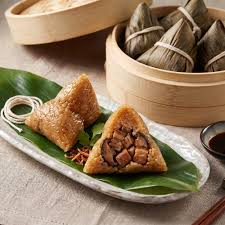zongzi: (83, 105, 167, 173), (25, 75, 99, 151), (137, 19, 196, 71), (124, 3, 164, 58), (160, 0, 212, 39), (198, 20, 224, 71)
